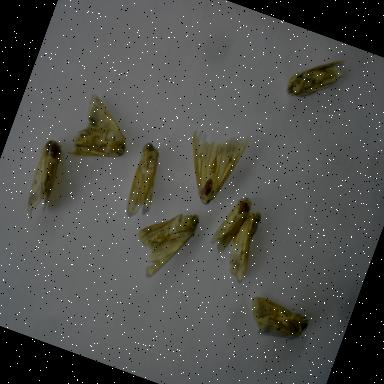abw: (168, 115, 254, 216), (121, 193, 206, 292), (60, 86, 144, 180), (13, 127, 75, 226), (112, 133, 177, 222), (281, 37, 355, 115), (237, 287, 316, 353), (216, 204, 272, 288), (202, 182, 258, 264)
